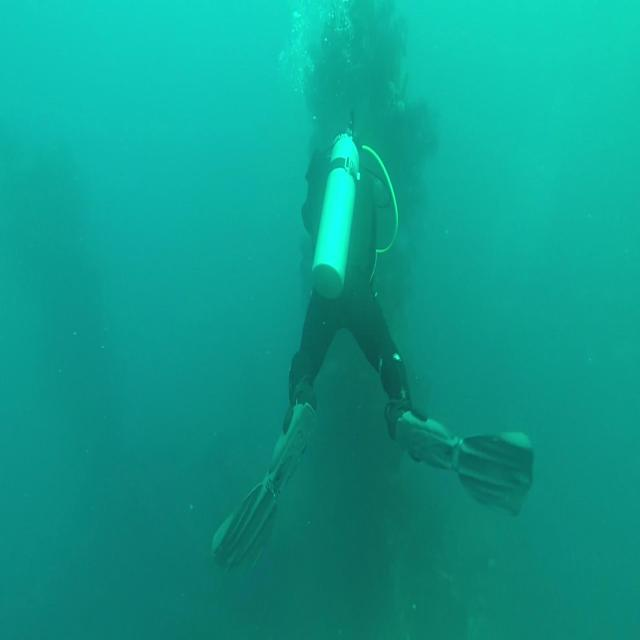human: (210, 117, 534, 576)
